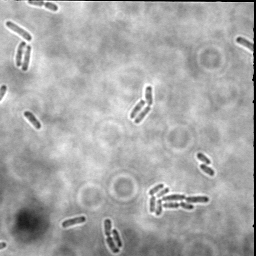Dividing: (133, 85, 154, 124), (102, 218, 119, 254), (27, 1, 58, 13)
Microcolony: (148, 182, 209, 216)
Rod: (5, 20, 32, 42), (22, 110, 42, 131), (129, 98, 145, 120), (61, 215, 86, 229), (14, 40, 26, 68), (20, 45, 32, 72), (110, 228, 123, 248), (196, 151, 211, 165), (199, 164, 215, 177)
